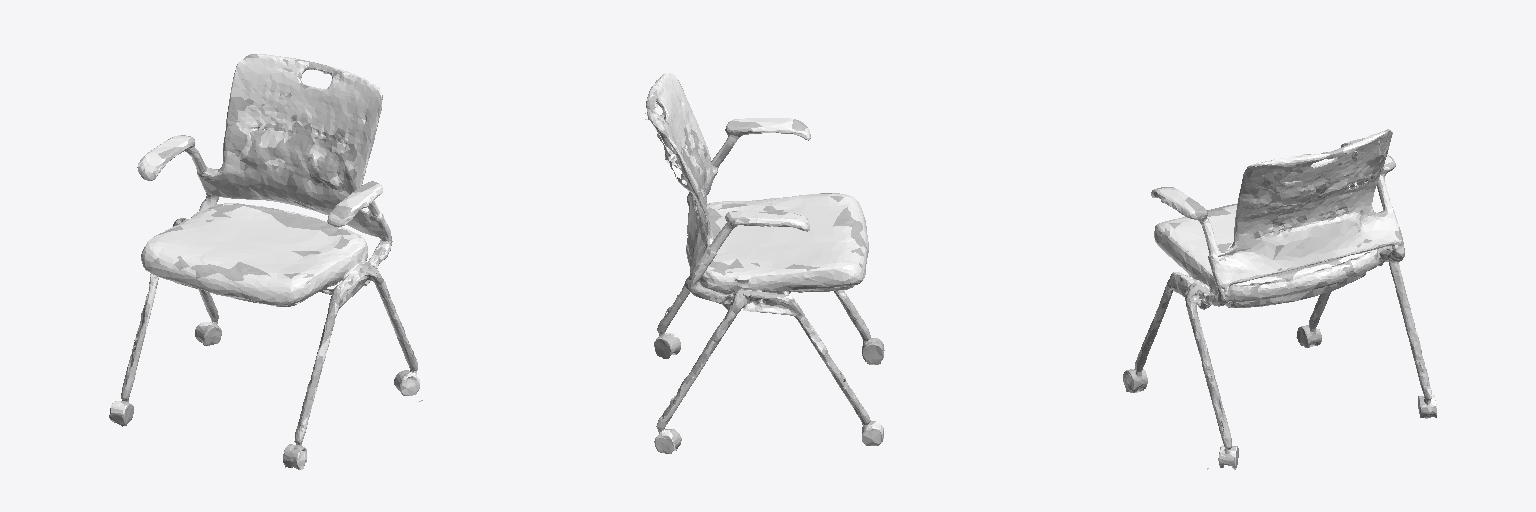
Rendered from mesh_lowpoly.obj.
The picture shows the model from 3 angles: view 1: azimuth 30°, elevation 25°; view 2: azimuth 150°, elevation 25°; view 3: azimuth 270°, elevation 25°; orthographic projection.
Size of the model in its own units: 2.91 by 3.07 by 2.9.